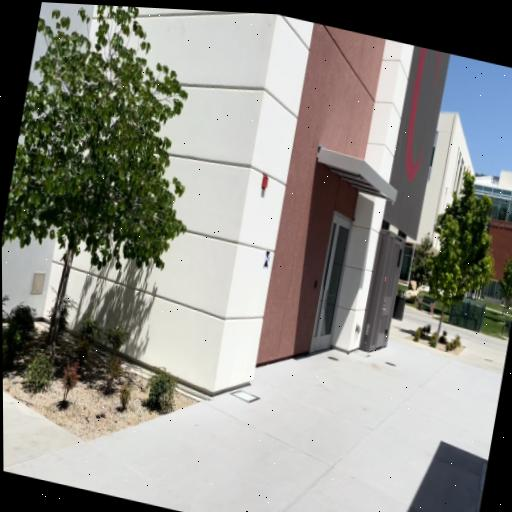target9: (263, 251, 271, 269)
